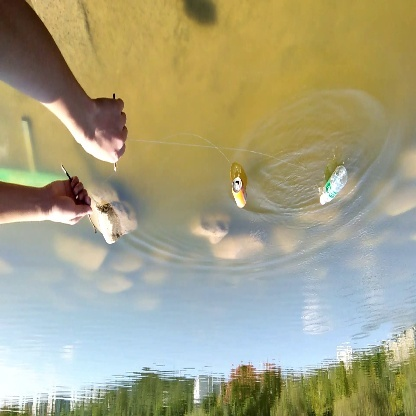bottle: (319, 163, 350, 208), (229, 175, 248, 211)
